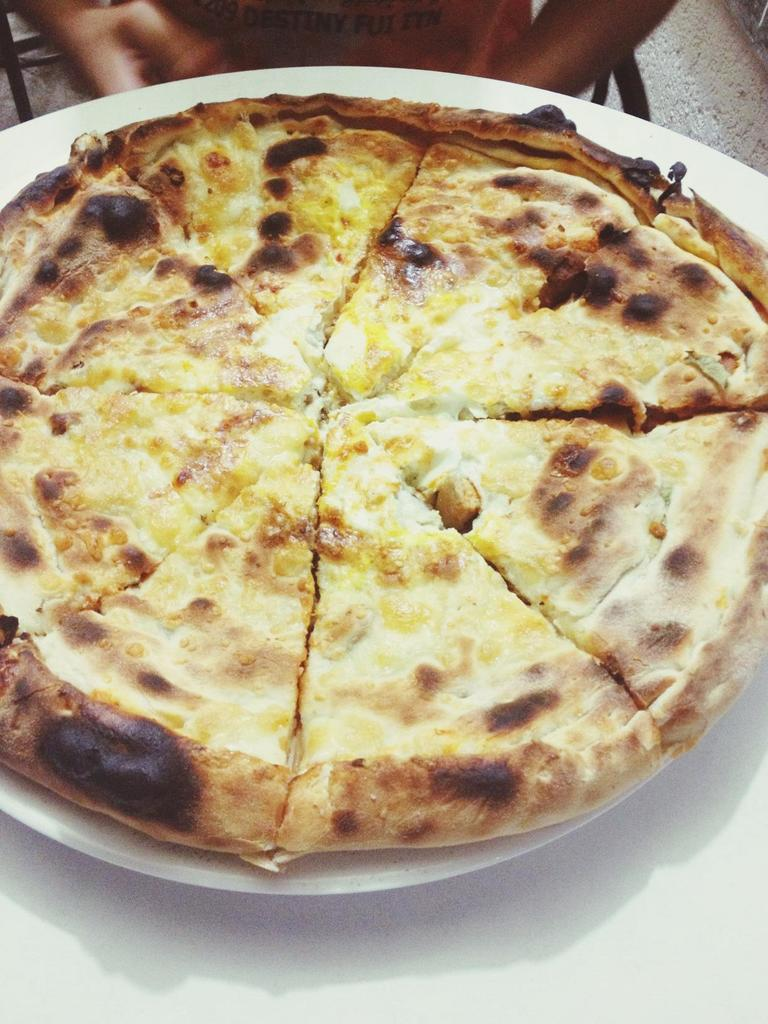person: (0, 0, 241, 130)
